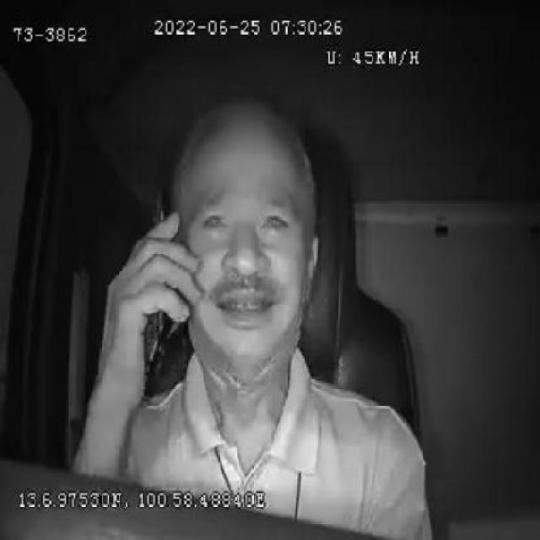phone: (134, 190, 184, 389)
